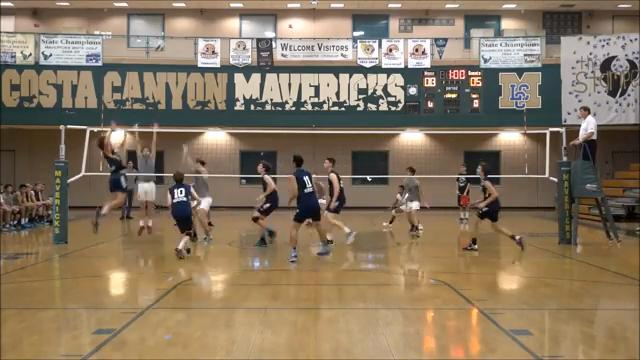Attack: (81, 120, 130, 232)
Block: (133, 121, 158, 235)
Player: (463, 163, 523, 250), (288, 155, 329, 262), (167, 171, 199, 258), (324, 157, 355, 243), (251, 161, 278, 246), (403, 166, 423, 235), (193, 176, 212, 240), (383, 185, 407, 228), (312, 173, 326, 210)
ball: (155, 42, 164, 53)
